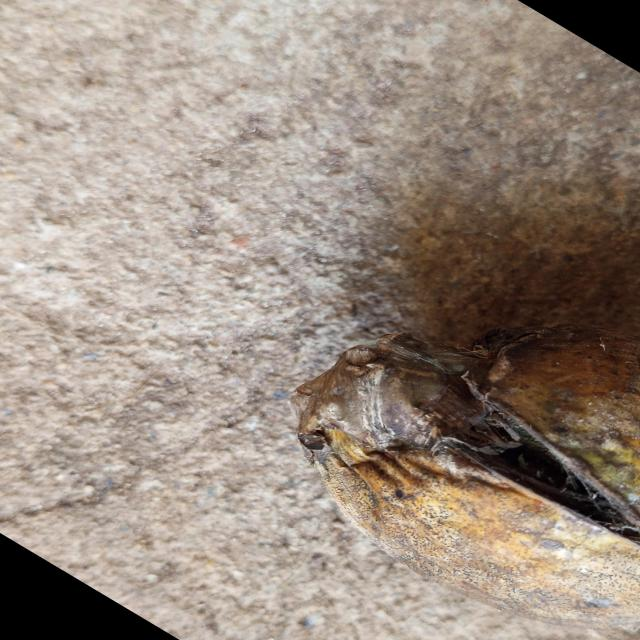damaged: (293, 324, 640, 627)
